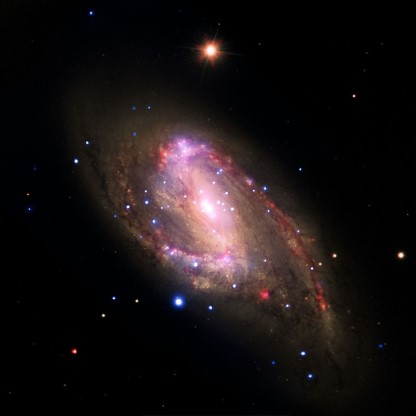Messier 66: (71, 37, 365, 380)
